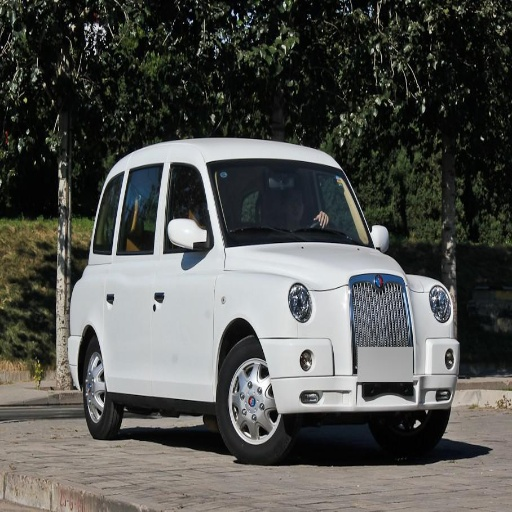front_bumper: (265, 274, 457, 411)
front_right_door: (141, 160, 221, 396)
hood: (258, 241, 399, 289)
